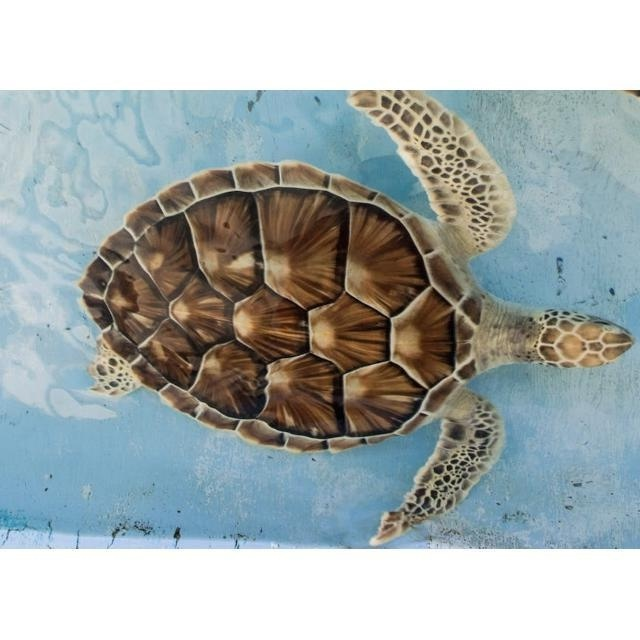turtle: (77, 92, 634, 545)
